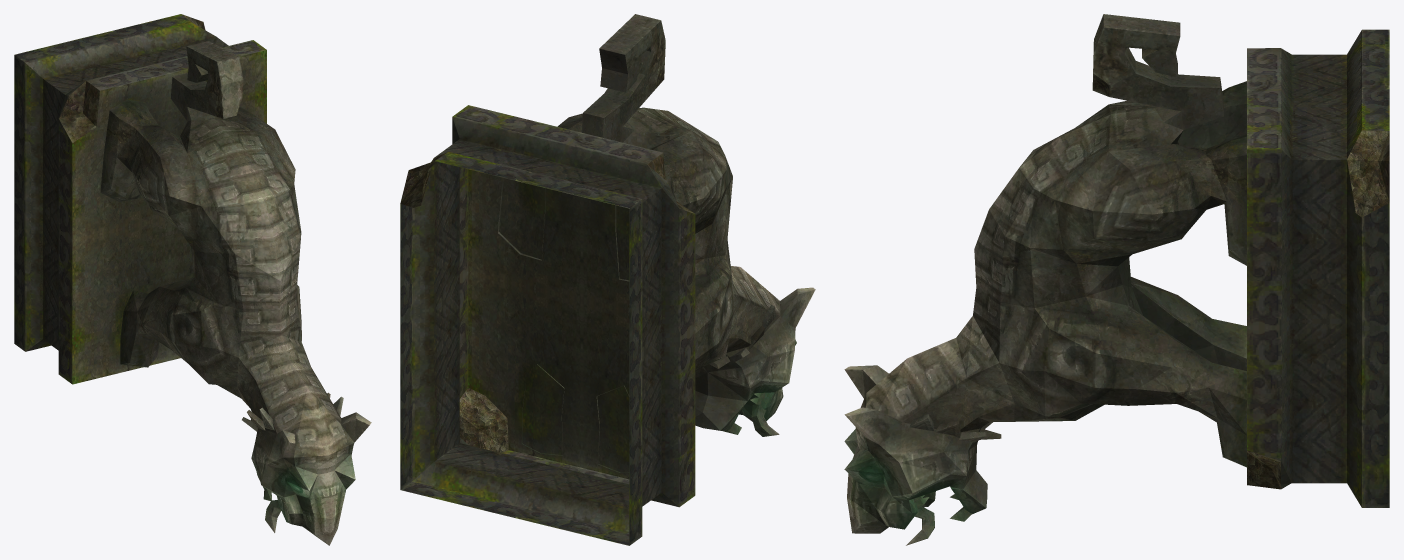
The model's file is dongfang_yewai_358_diaoxiang01.obj.
The picture shows the model from 3 angles, left to right: view 1: azimuth 30°, elevation 25°; view 2: azimuth 150°, elevation 25°; view 3: azimuth 270°, elevation 25°; orthographic projection. The views are drawn at different scales.
Parts seen in each view (by area): view 1: dongfang_yewai_358_diaoxiang01; view 2: dongfang_yewai_358_diaoxiang01; view 3: dongfang_yewai_358_diaoxiang01.
Part boxes in pixels (x1,y1,x2,y2): dongfang_yewai_358_diaoxiang01: [14, 14, 371, 545]; dongfang_yewai_358_diaoxiang01: [400, 14, 815, 545]; dongfang_yewai_358_diaoxiang01: [844, 14, 1389, 545].
Size of the model in its own units: 114 by 229 by 221.
3 materials, 3 textured.
